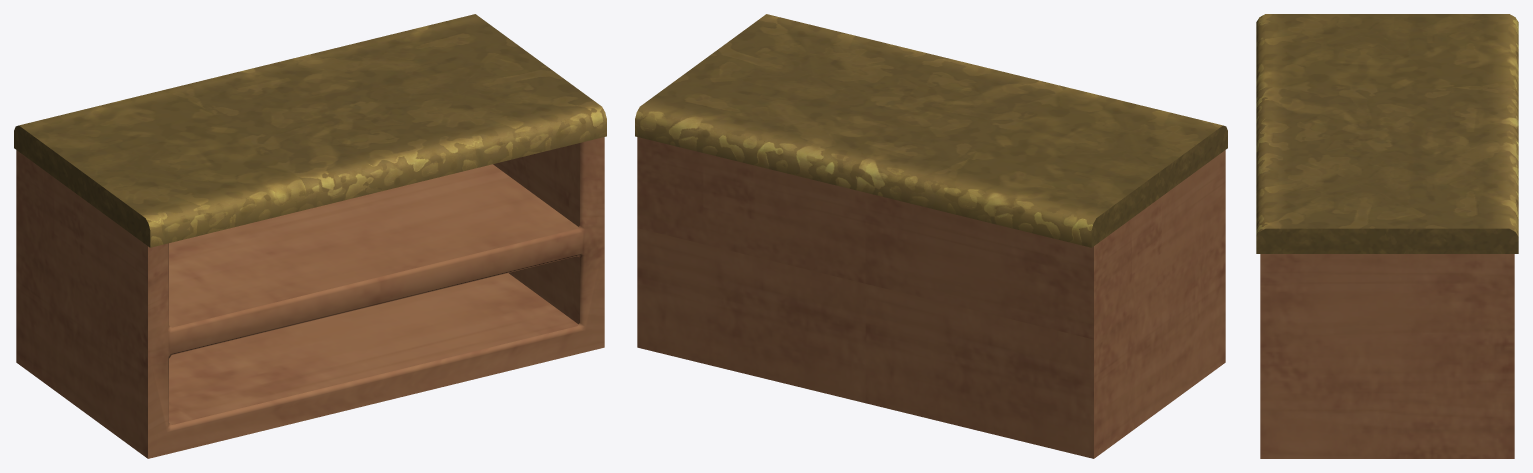
Rendered from DI_061_062_cabinet.glb.
The picture shows the model from 3 angles, left to right: view 1: azimuth 30°, elevation 25°; view 2: azimuth 150°, elevation 25°; view 3: azimuth 270°, elevation 25°; orthographic projection. The views are drawn at different scales.
Parts seen in each view (by area): view 1: Cabinet.003; view 2: Cabinet.003; view 3: Cabinet.003.
Part boxes in pixels (x1,y1,x2,y2): Cabinet.003: [14, 14, 606, 458]; Cabinet.003: [635, 14, 1227, 458]; Cabinet.003: [1256, 14, 1518, 458].
Size of the model in its own units: 1.5 by 0.75 by 0.7743.
Materials: 2 (2 with a texture image).
